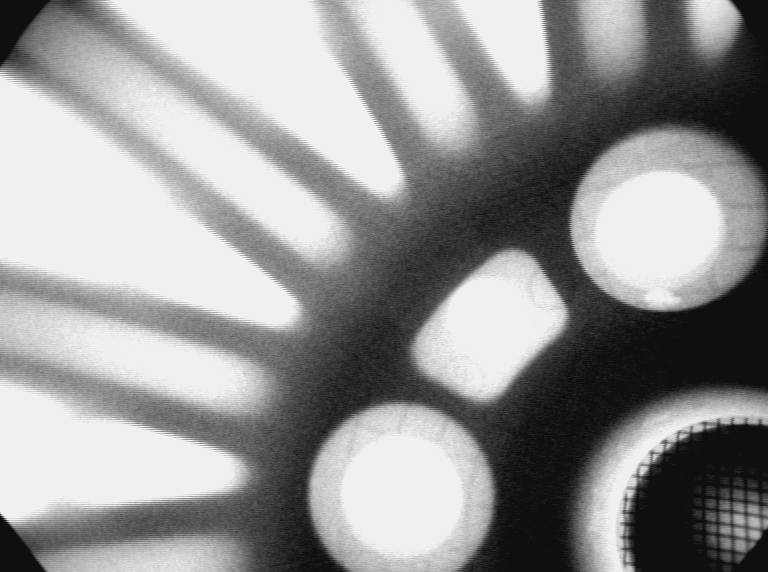defect: (641, 285, 688, 315)
